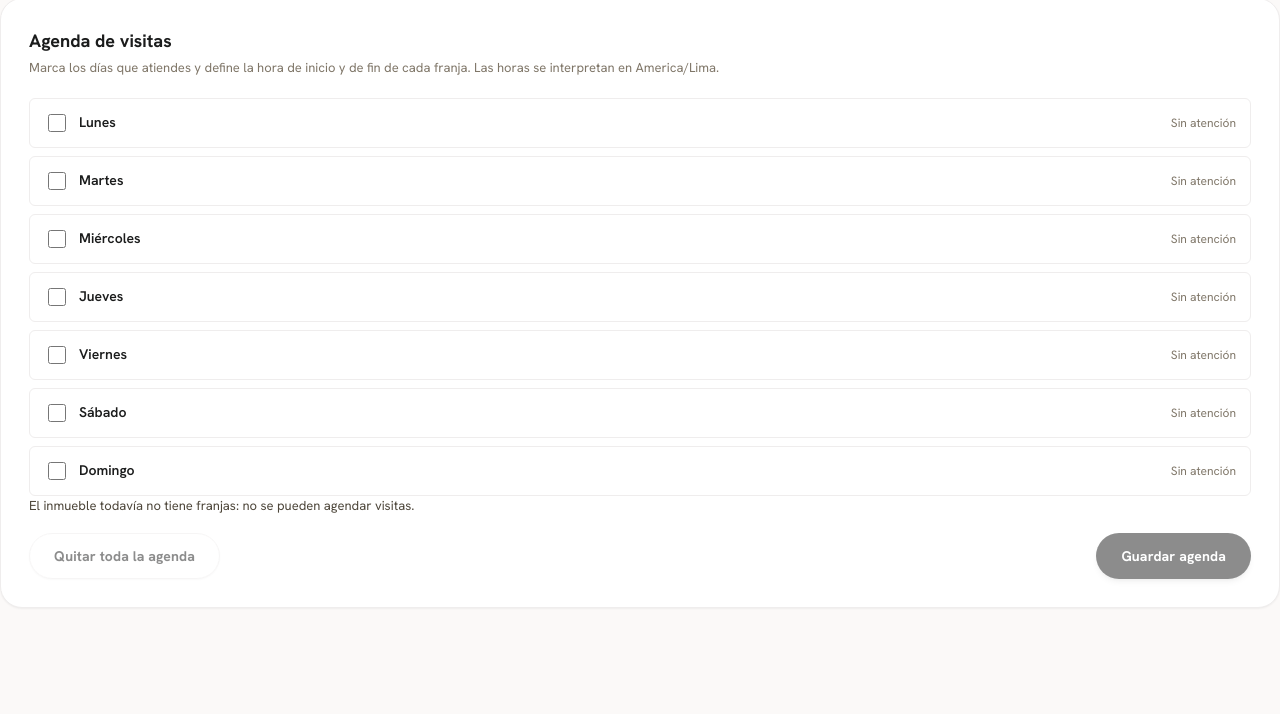
Test: ScheduleManager › Edición del borrador › cuenta las franjas de toda la semana
The width and height of the screenshot is (1280, 714).
Click the switch labelled "Lunes" at (57, 122), box [48,114,66,132]
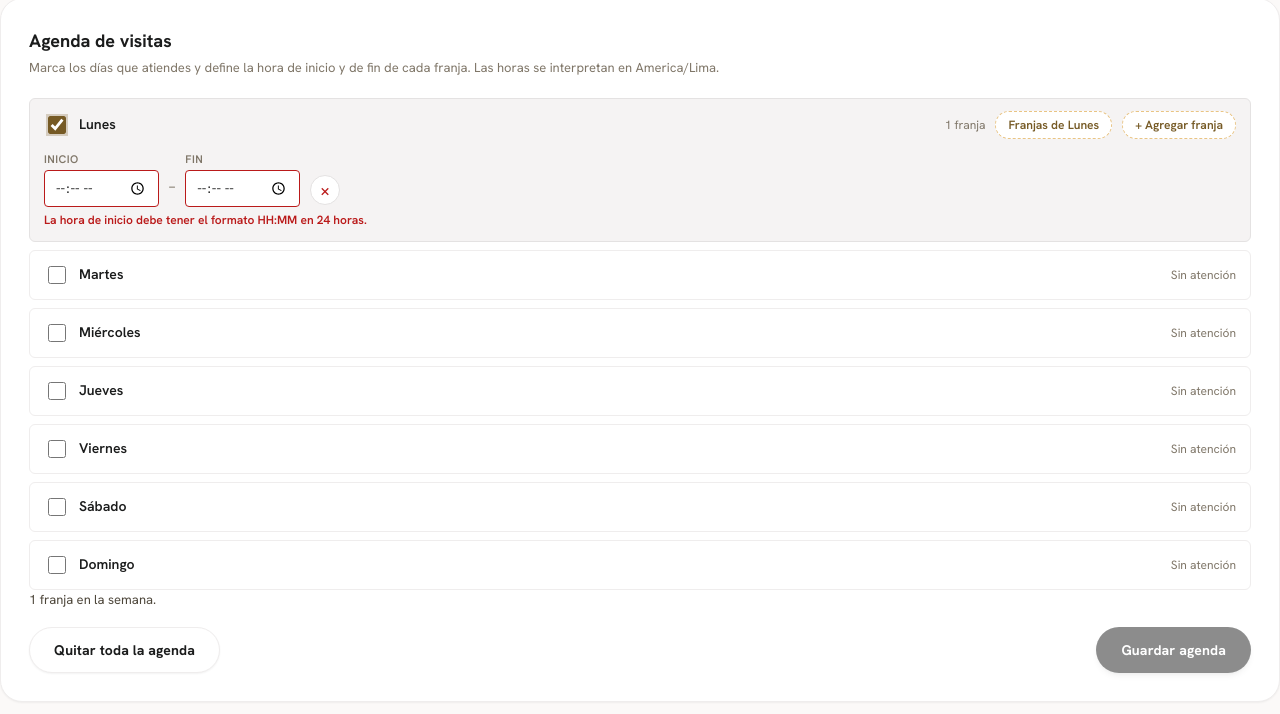
Click the button "+ Agregar franja" at (1179, 124), box [1122,110,1236,138]
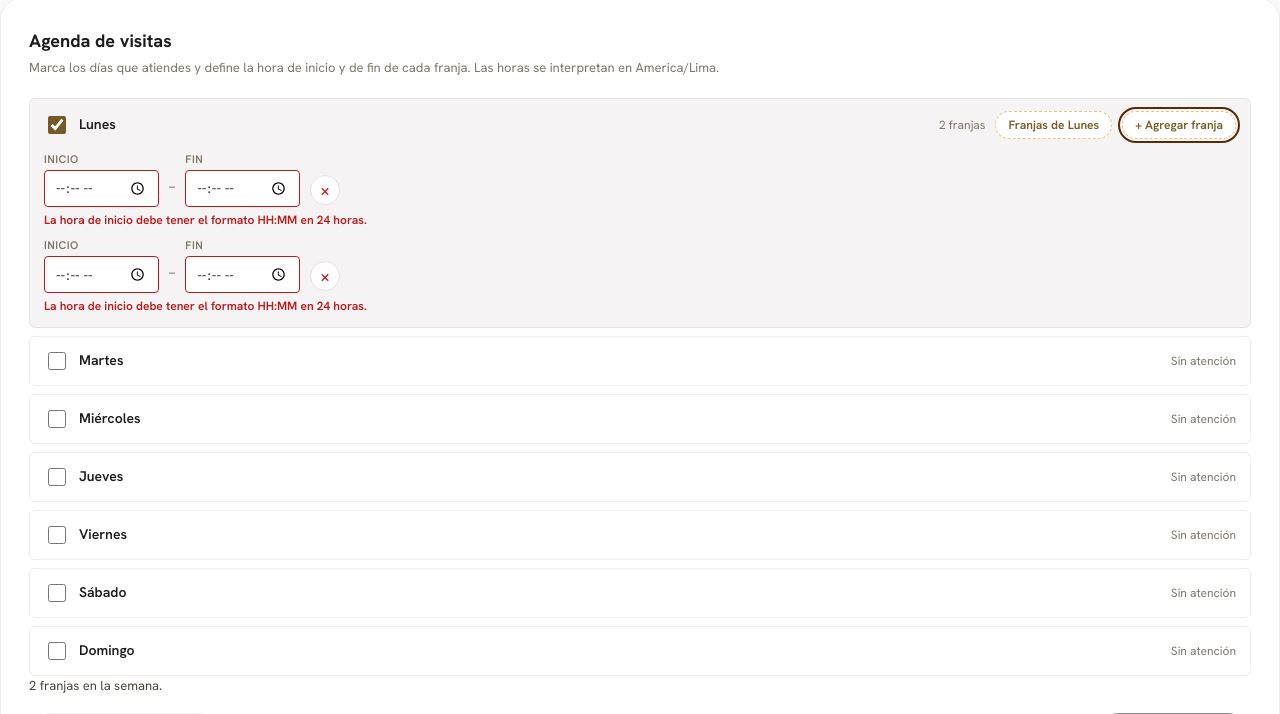
Click the switch labelled "Sábado" at (57, 593), box [48,584,66,602]
(page scrolled)
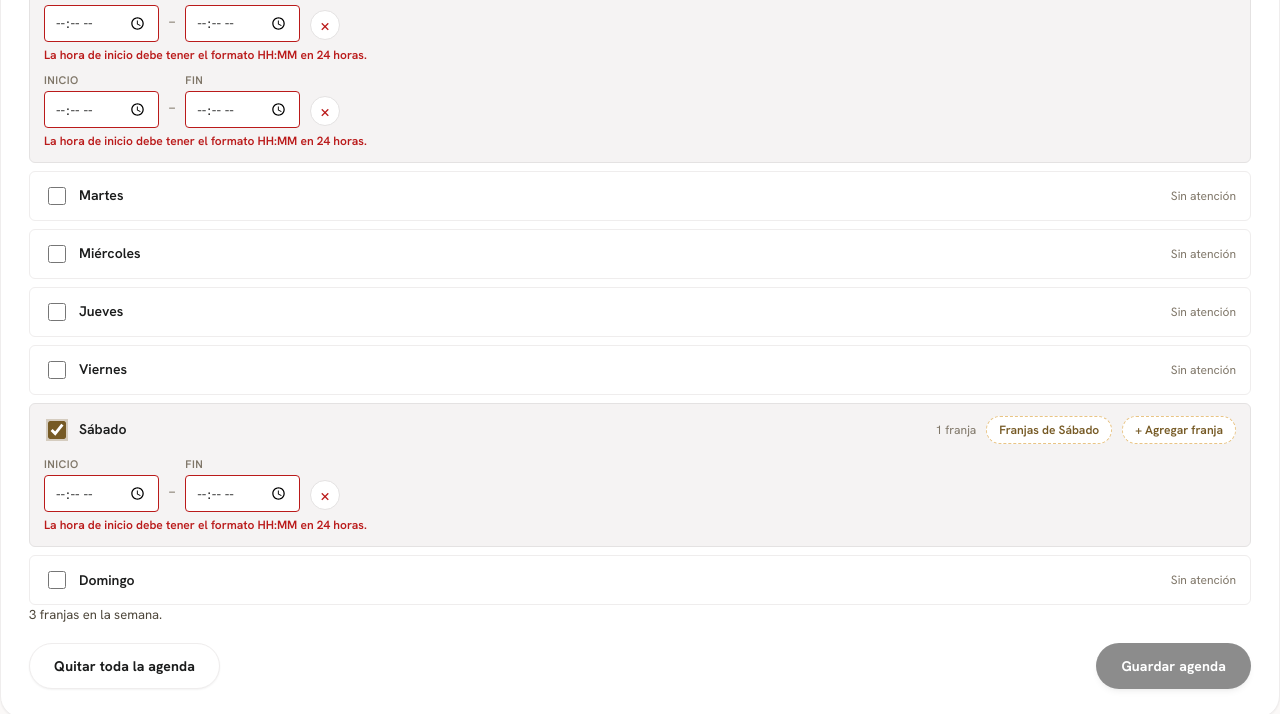
Expected: the text "3 franjas en la semana." is shown, [29,606,162,623]
